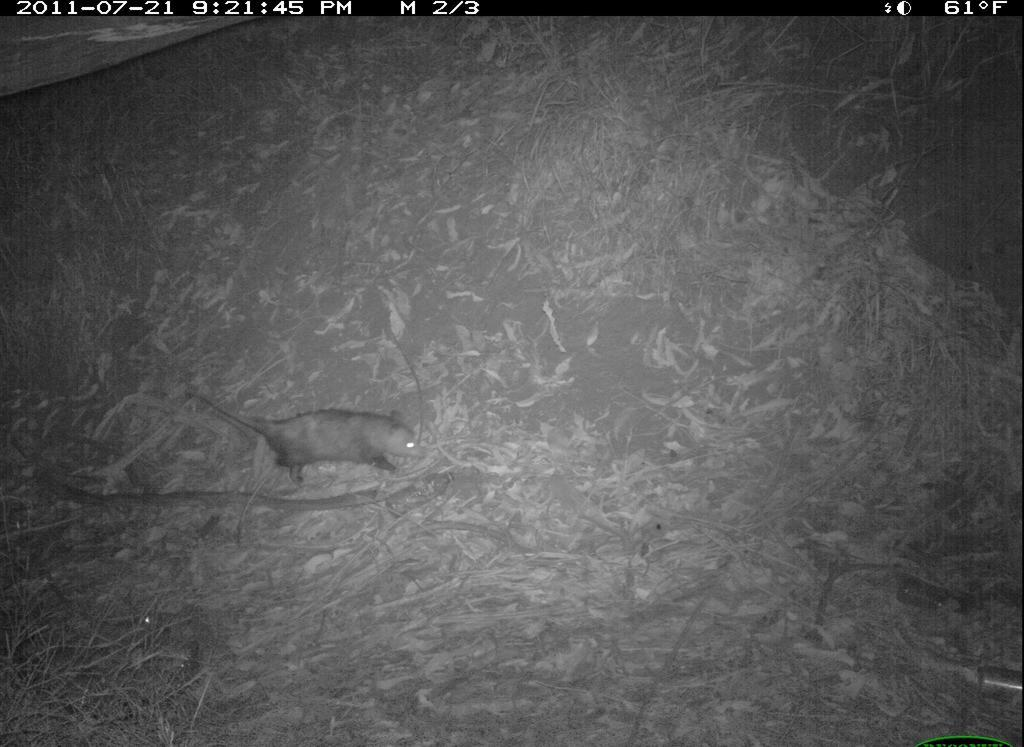opossum: (146, 373, 429, 509)
